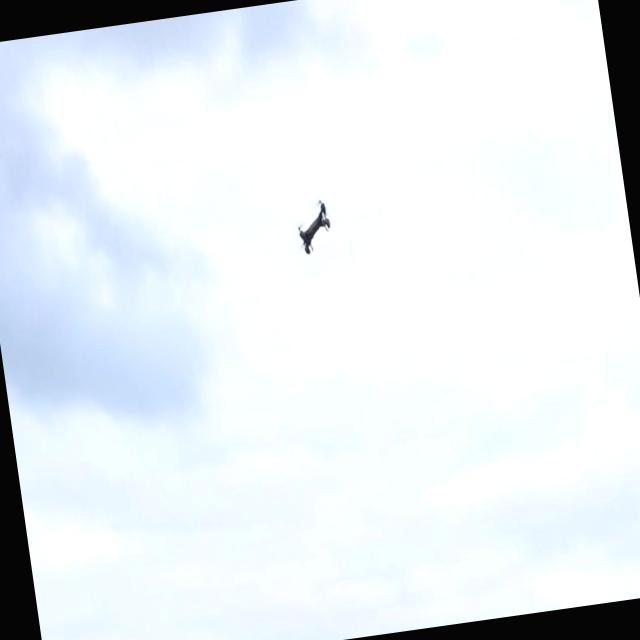drone: (292, 196, 338, 261)
